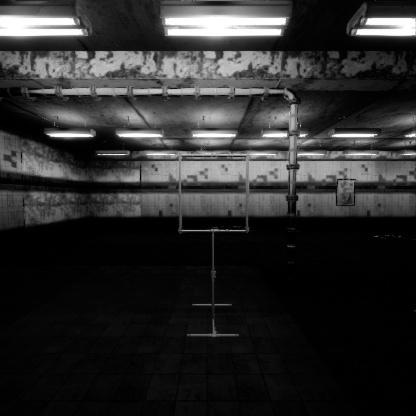gate: (178, 182, 255, 262)
